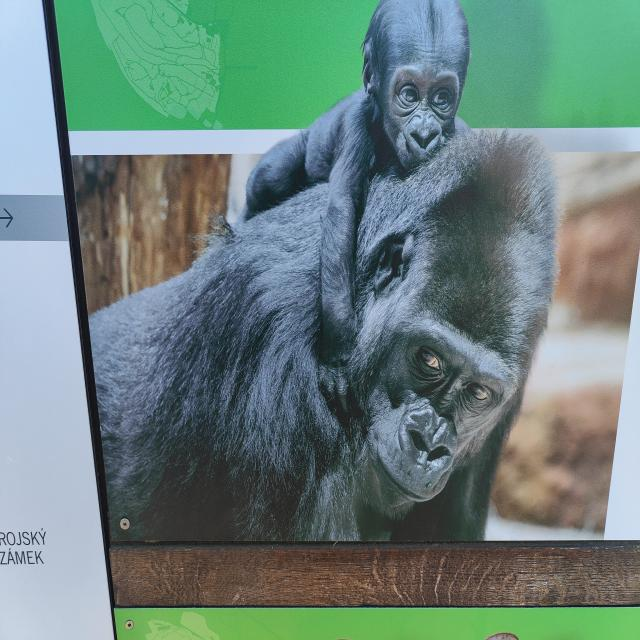monkey: (90, 126, 557, 542), (239, 0, 470, 415)
